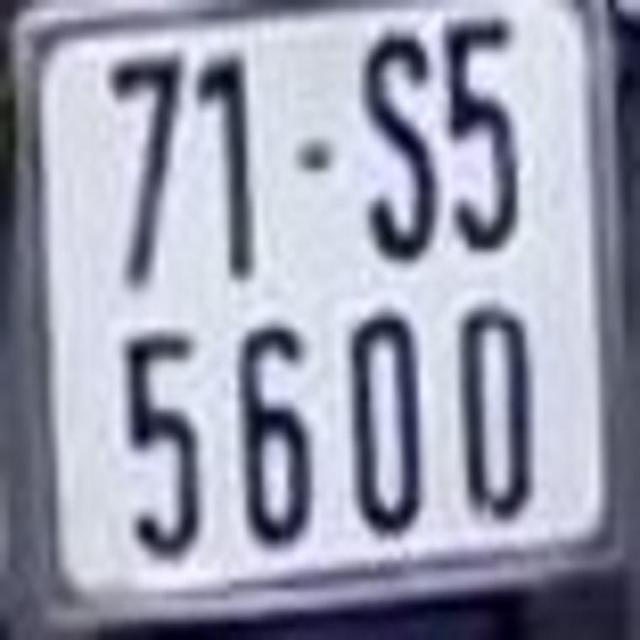0: (350, 305, 423, 537), (459, 300, 536, 518)
1: (195, 52, 257, 276)
5: (442, 14, 522, 252), (123, 331, 201, 560)
6: (241, 320, 314, 544)
7: (109, 56, 179, 283)
S: (364, 31, 440, 268)
